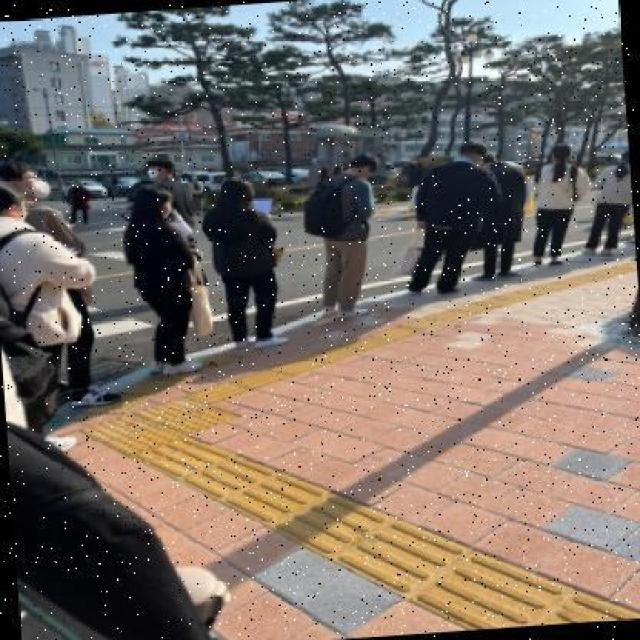Person: (0, 155, 122, 411), (398, 139, 512, 298), (123, 186, 206, 380), (205, 178, 292, 352), (310, 151, 392, 320), (522, 144, 596, 270)
